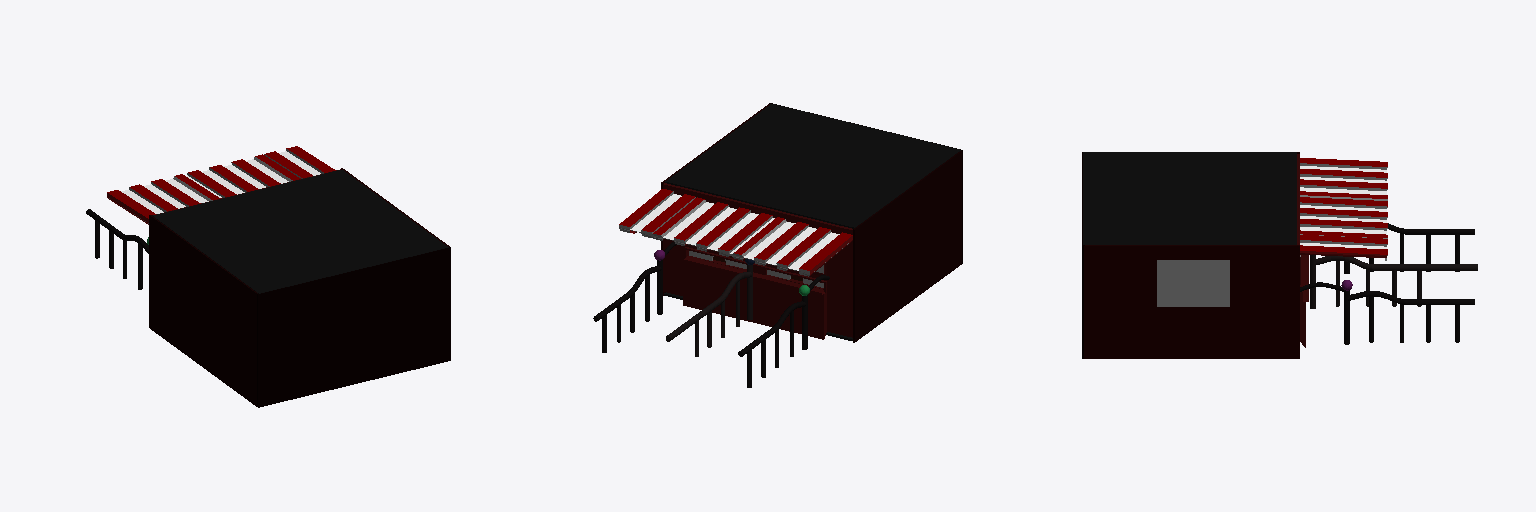
Rendered from llll.obj.
The picture shows the model from 3 angles: view 1: azimuth 30°, elevation 25°; view 2: azimuth 150°, elevation 25°; view 3: azimuth 270°, elevation 25°; orthographic projection.
Visible parts, largest first — view 1: polySurface374, polySurface237 polySurface306, polySurface75 polySurface108, polySurface75 polySurface111, polySurface448, polySurface75 polySurface110; view 2: polySurface374, polySurface237 polySurface306, polySurface75 polySurface108, polySurface75 polySurface111, polySurface75 polySurface110, polySurface458, polySurface448, polySurface424; view 3: polySurface374, polySurface237 polySurface306, polySurface75 polySurface111, polySurface98, polySurface75 polySurface108, polySurface458, polySurface424, polySurface75 polySurface110, polySurface448.
Part boxes in pixels (x1,y1,x2,y2): polySurface374: (149,168,450,407); polySurface237 polySurface306: (153,170,448,293); polySurface75 polySurface108: (186,154,300,197); polySurface75 polySurface111: (107,174,220,218); polySurface448: (86,209,148,289); polySurface75 polySurface110: (264,146,335,178); polySurface374: (661,103,962,342); polySurface237 polySurface306: (665,104,960,228); polySurface75 polySurface108: (652,197,774,256); polySurface75 polySurface111: (732,217,852,276); polySurface75 polySurface110: (619,189,695,237); polySurface458: (593,242,676,352); polySurface448: (738,275,829,387); polySurface424: (666,259,754,356); polySurface374: (1082,152,1308,358); polySurface237 polySurface306: (1083,152,1296,244); polySurface75 polySurface111: (1300,158,1387,200); polySurface98: (1157,260,1229,306); polySurface75 polySurface108: (1300,197,1387,238); polySurface458: (1300,280,1474,344); polySurface424: (1310,255,1477,308); polySurface75 polySurface110: (1300,235,1387,260); polySurface448: (1344,223,1474,273).
Size of the model in its own units: 215 by 122 by 380.